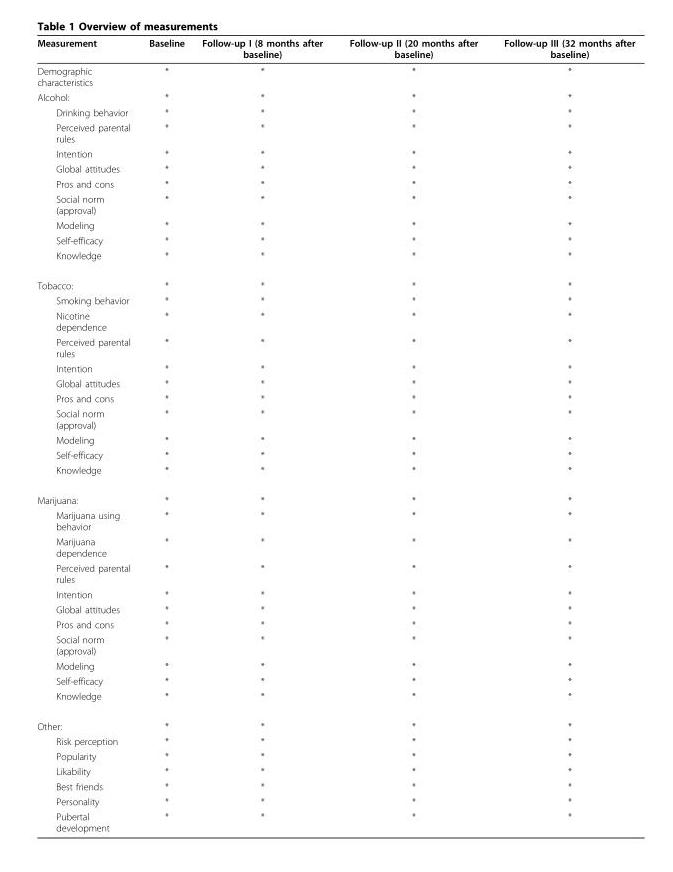table: (36, 36, 634, 833)
table column: (335, 36, 490, 833), (490, 36, 634, 833), (192, 36, 335, 833), (36, 36, 139, 833), (139, 36, 192, 833)
table column header: (36, 36, 634, 62)
table row: (36, 62, 634, 89), (36, 307, 634, 334), (36, 405, 634, 432), (36, 533, 634, 560), (36, 631, 634, 658), (36, 36, 634, 62), (36, 119, 634, 145), (36, 191, 634, 217), (36, 334, 634, 360), (36, 507, 634, 533), (36, 560, 634, 586), (36, 808, 634, 833), (36, 247, 634, 270), (36, 484, 634, 507), (36, 710, 634, 733), (36, 270, 634, 292), (36, 462, 634, 484), (36, 688, 634, 710), (36, 160, 634, 176), (36, 89, 634, 104), (36, 104, 634, 119), (36, 145, 634, 160), (36, 176, 634, 191), (36, 217, 634, 232), (36, 232, 634, 247), (36, 292, 634, 307), (36, 360, 634, 375), (36, 375, 634, 390), (36, 390, 634, 405), (36, 432, 634, 447), (36, 447, 634, 462), (36, 586, 634, 601), (36, 601, 634, 616), (36, 616, 634, 631), (36, 658, 634, 673), (36, 673, 634, 688), (36, 733, 634, 748), (36, 748, 634, 763), (36, 763, 634, 778), (36, 778, 634, 793), (36, 793, 634, 808)
